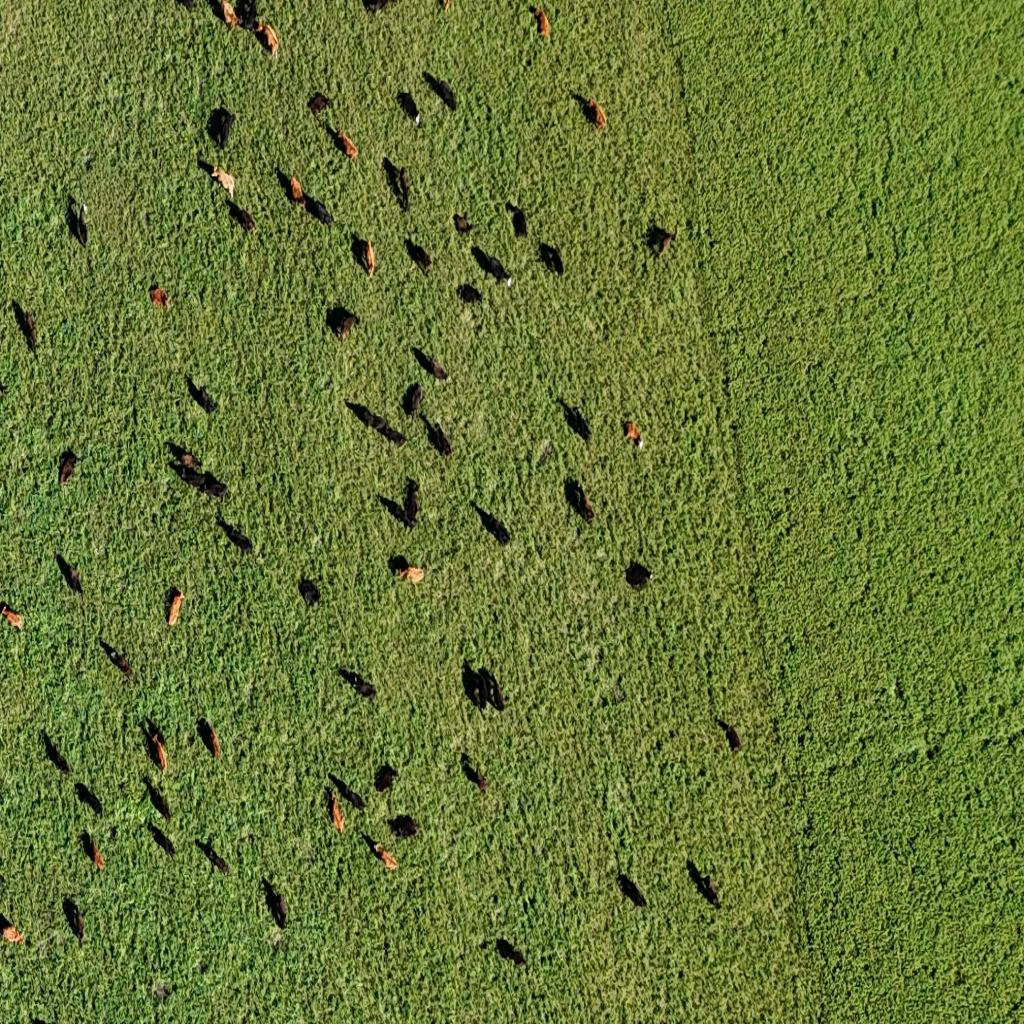cow: (404, 377, 454, 456), (216, 0, 278, 60), (304, 96, 358, 164), (347, 404, 409, 452), (174, 449, 228, 500), (290, 176, 334, 228), (204, 165, 252, 211), (382, 479, 422, 531), (687, 859, 721, 909), (472, 246, 512, 288), (474, 502, 512, 545), (143, 718, 169, 774), (143, 774, 172, 824), (565, 477, 595, 525), (462, 661, 488, 714), (218, 514, 252, 554), (384, 160, 410, 212), (329, 772, 364, 810), (99, 639, 133, 678), (42, 730, 70, 777), (562, 402, 593, 444), (424, 72, 458, 110), (363, 832, 397, 870), (56, 551, 84, 597), (478, 666, 506, 712), (13, 300, 37, 353), (263, 878, 288, 928), (414, 346, 448, 382), (197, 837, 229, 875), (645, 221, 676, 260), (208, 106, 235, 150), (340, 668, 378, 699), (575, 93, 606, 131), (326, 305, 360, 339), (188, 376, 219, 413), (75, 778, 103, 818), (618, 872, 648, 909), (462, 756, 490, 795), (352, 232, 376, 276), (391, 555, 425, 586), (150, 820, 176, 860), (67, 196, 87, 248), (496, 937, 528, 969), (345, 400, 379, 430), (63, 897, 85, 943), (405, 240, 433, 276), (198, 718, 220, 761), (278, 168, 302, 207), (539, 242, 564, 278), (0, 911, 25, 947), (397, 91, 421, 128), (58, 450, 81, 487), (625, 560, 653, 590), (166, 441, 196, 467), (85, 830, 104, 870), (507, 203, 528, 239), (390, 814, 421, 838), (235, 0, 259, 31), (166, 587, 185, 626), (529, 4, 550, 39), (0, 600, 24, 630), (719, 722, 741, 754), (604, 676, 626, 708), (375, 763, 398, 793), (298, 578, 320, 608), (404, 382, 422, 418), (626, 424, 647, 454), (210, 0, 234, 25), (149, 284, 171, 311), (331, 792, 345, 834), (458, 284, 483, 306), (452, 212, 474, 236), (307, 93, 329, 117), (362, 0, 394, 16), (196, 157, 217, 181), (152, 981, 174, 1003), (536, 442, 553, 468), (571, 91, 590, 114), (269, 930, 287, 954)
